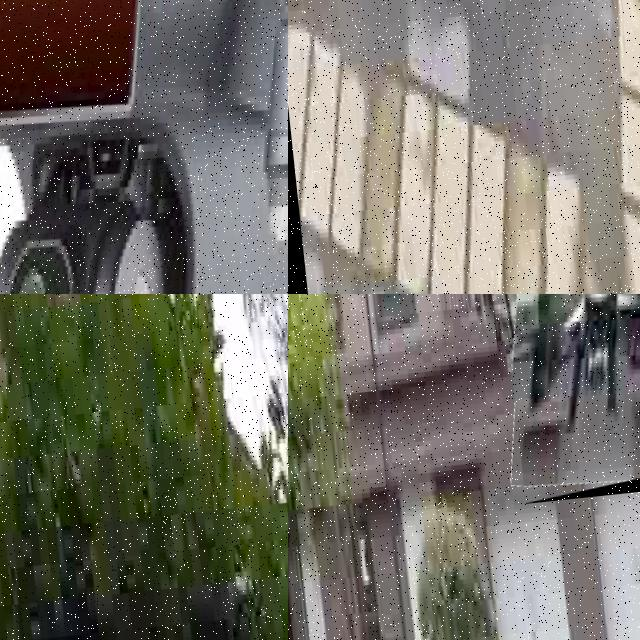0: (488, 294, 640, 503)
drone: (0, 0, 288, 294)
